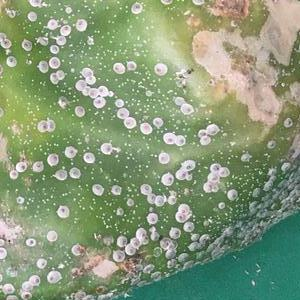Femea: (228, 189, 238, 203), (47, 155, 59, 165), (174, 136, 185, 146), (83, 152, 94, 162), (75, 18, 85, 28), (64, 147, 74, 156), (163, 134, 172, 144), (91, 185, 102, 193), (164, 174, 172, 185), (183, 161, 194, 169), (180, 104, 192, 111), (16, 162, 25, 171), (154, 65, 164, 73), (96, 85, 106, 93), (118, 110, 127, 118), (33, 162, 42, 170), (49, 60, 59, 67), (55, 35, 63, 43), (93, 98, 102, 105), (10, 171, 18, 177)
Linfa: (136, 163, 150, 174), (114, 78, 128, 87), (238, 178, 249, 188), (99, 48, 111, 55), (89, 124, 98, 133), (142, 102, 150, 112), (124, 152, 134, 160), (101, 211, 109, 220), (124, 99, 134, 106), (102, 222, 112, 229), (232, 174, 243, 180), (94, 52, 102, 60), (225, 178, 232, 187), (146, 96, 154, 103), (92, 110, 103, 115), (135, 98, 142, 105), (134, 108, 142, 114), (103, 76, 110, 82), (149, 79, 155, 86), (136, 80, 144, 85), (157, 96, 161, 105), (138, 85, 145, 89), (67, 59, 72, 64), (113, 49, 116, 57), (96, 75, 101, 79)
Macho: (110, 145, 123, 152)
